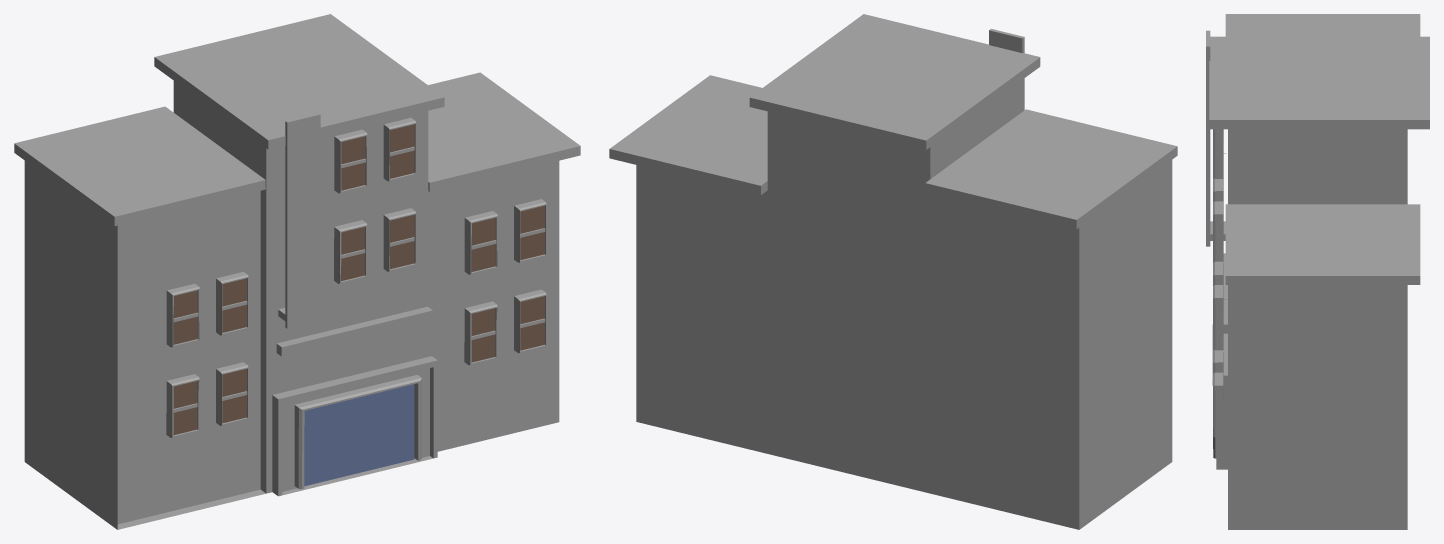
File: School.fbx
3 views of the same model, side by side, from view 1: azimuth 30°, elevation 25°; view 2: azimuth 150°, elevation 25°; view 3: azimuth 270°, elevation 25° (orthographic). The views are drawn at different scales.
Visible parts, largest first — view 1: pCube95, pCube97, pCube98, pCube99, polySurface375, pCube96, pCube102, pCube100, polySurface132, polySurface113, polySurface133, polySurface114 (+20 smaller); view 2: pCube95, pCube97, pCube98, pCube99, pCube96; view 3: pCube95, pCube97, pCube99, pCube98, pCube96, pCube102, polySurface112, polySurface120, polySurface99, polySurface96, pCube100.
Boxes of the visible parts, left/top/right/bottom form: pCube95: left=24, top=81, right=559, bottom=529; pCube97: left=154, top=14, right=444, bottom=149; pCube98: left=14, top=106, right=265, bottom=226; pCube99: left=428, top=72, right=580, bottom=191; polySurface375: left=294, top=375, right=421, bottom=489; pCube96: left=285, top=113, right=320, bottom=328; pCube102: left=272, top=356, right=437, bottom=496; pCube100: left=276, top=306, right=432, bottom=356; polySurface132: left=222, top=369, right=246, bottom=423; polySurface113: left=520, top=296, right=544, bottom=350; polySurface133: left=222, top=278, right=246, bottom=332; polySurface114: left=520, top=206, right=544, bottom=260; pCube95: left=636, top=79, right=1172, bottom=529; pCube97: left=749, top=14, right=1040, bottom=149; pCube98: left=925, top=109, right=1177, bottom=229; pCube99: left=609, top=75, right=767, bottom=195; pCube96: left=989, top=29, right=1024, bottom=110; pCube95: left=1228, top=129, right=1407, bottom=529; pCube97: left=1209, top=36, right=1429, bottom=129; pCube99: left=1225, top=204, right=1420, bottom=284; pCube98: left=1225, top=14, right=1420, bottom=36; pCube96: left=1206, top=30, right=1210, bottom=246; pCube102: left=1216, top=333, right=1227, bottom=469; polySurface112: left=1213, top=285, right=1226, bottom=350; polySurface120: left=1213, top=372, right=1223, bottom=437; polySurface99: left=1213, top=201, right=1223, bottom=263; polySurface96: left=1213, top=129, right=1223, bottom=178; pCube100: left=1223, top=253, right=1227, bottom=333.
Size of the model in its own units: 68.22 by 52.72 by 29.27.
